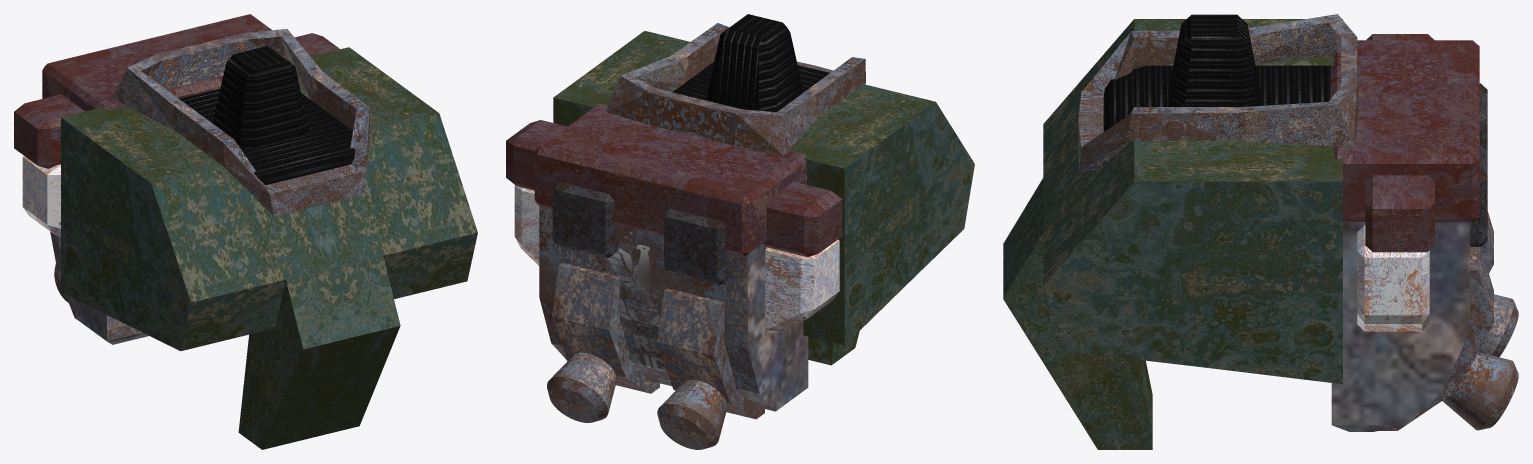
File: torso.obj
3 renders of one model, left to right at view 1: azimuth 30°, elevation 25°; view 2: azimuth 150°, elevation 25°; view 3: azimuth 270°, elevation 25°, orthographic. The views are drawn at different scales.
Parts seen in each view (by area): view 1: torso; view 2: torso; view 3: torso.
Part boxes in pixels (x1,y1,x2,y2): torso: (14, 14, 477, 449); torso: (506, 14, 974, 449); torso: (1003, 14, 1518, 449).
Bounding box in the file's own units: 3.85 × 4.1 × 4.81.
8 materials, 8 textured.
